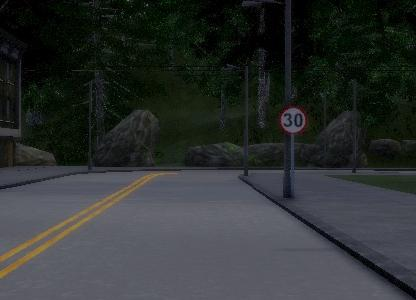Speed_30: (282, 105, 308, 138)
